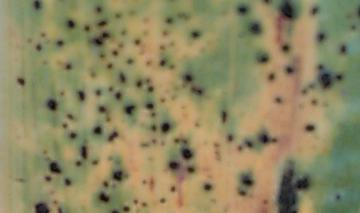tarspot: (278, 168, 309, 213), (281, 1, 294, 19), (34, 202, 51, 213), (176, 11, 191, 22), (321, 72, 331, 88), (50, 162, 62, 174), (189, 85, 203, 95), (46, 99, 57, 111), (248, 23, 260, 34), (98, 192, 110, 203), (213, 148, 222, 162), (113, 170, 123, 182), (15, 76, 25, 87), (242, 175, 253, 185), (161, 122, 170, 134), (183, 147, 192, 159), (12, 175, 27, 182), (39, 56, 49, 66), (221, 110, 228, 124), (66, 19, 75, 29), (109, 132, 118, 142), (318, 31, 326, 42), (78, 90, 85, 102), (262, 132, 269, 144), (126, 105, 135, 114), (238, 188, 247, 197), (33, 1, 41, 11), (101, 31, 111, 39), (88, 69, 96, 79), (169, 161, 179, 169), (166, 39, 176, 47), (26, 34, 34, 44), (126, 56, 134, 65), (185, 72, 193, 81), (305, 124, 314, 132), (282, 44, 291, 52), (285, 65, 293, 74), (350, 23, 358, 32), (94, 125, 101, 135), (82, 145, 87, 159), (312, 6, 319, 16), (120, 73, 126, 84), (139, 142, 150, 148), (146, 102, 154, 110), (149, 110, 157, 118), (61, 121, 68, 130), (94, 38, 103, 45), (98, 104, 105, 113), (91, 159, 100, 166), (151, 123, 158, 132), (268, 72, 275, 81), (260, 55, 269, 62), (203, 184, 212, 191), (158, 197, 167, 204), (44, 175, 53, 182), (36, 43, 43, 51), (57, 40, 65, 47), (65, 62, 72, 70), (70, 132, 78, 139), (147, 86, 155, 93), (112, 49, 119, 57), (117, 42, 125, 49), (160, 59, 167, 67), (166, 16, 173, 24), (187, 166, 195, 173), (239, 5, 246, 13), (64, 178, 71, 186), (137, 78, 142, 89), (42, 147, 48, 156), (341, 44, 347, 53), (97, 21, 107, 26), (95, 89, 102, 96), (134, 38, 141, 45), (173, 137, 180, 144), (169, 63, 176, 70), (159, 44, 166, 51), (247, 142, 254, 149), (271, 137, 278, 144), (275, 97, 282, 104), (311, 99, 318, 106), (317, 63, 324, 70), (336, 74, 343, 81), (262, 198, 269, 205), (141, 201, 148, 208), (194, 121, 201, 128), (84, 24, 90, 32), (96, 5, 102, 13), (114, 13, 122, 19), (192, 32, 200, 38), (237, 144, 243, 152), (300, 88, 308, 94), (335, 193, 341, 201), (103, 180, 109, 188), (57, 207, 65, 213), (214, 140, 220, 148), (67, 114, 74, 120), (107, 85, 113, 92), (151, 138, 157, 145), (145, 77, 151, 84), (120, 30, 127, 36), (163, 29, 169, 36), (170, 185, 176, 192), (124, 206, 131, 212), (116, 92, 121, 100), (228, 134, 233, 142), (75, 161, 81, 167), (107, 63, 113, 69), (99, 53, 105, 59), (106, 116, 112, 122), (146, 60, 152, 66), (308, 83, 314, 89), (141, 179, 147, 185), (133, 199, 139, 205), (112, 209, 121, 213), (52, 199, 58, 205), (40, 32, 47, 37), (59, 91, 65, 96), (183, 139, 188, 145), (160, 99, 165, 104), (264, 1, 270, 4)
